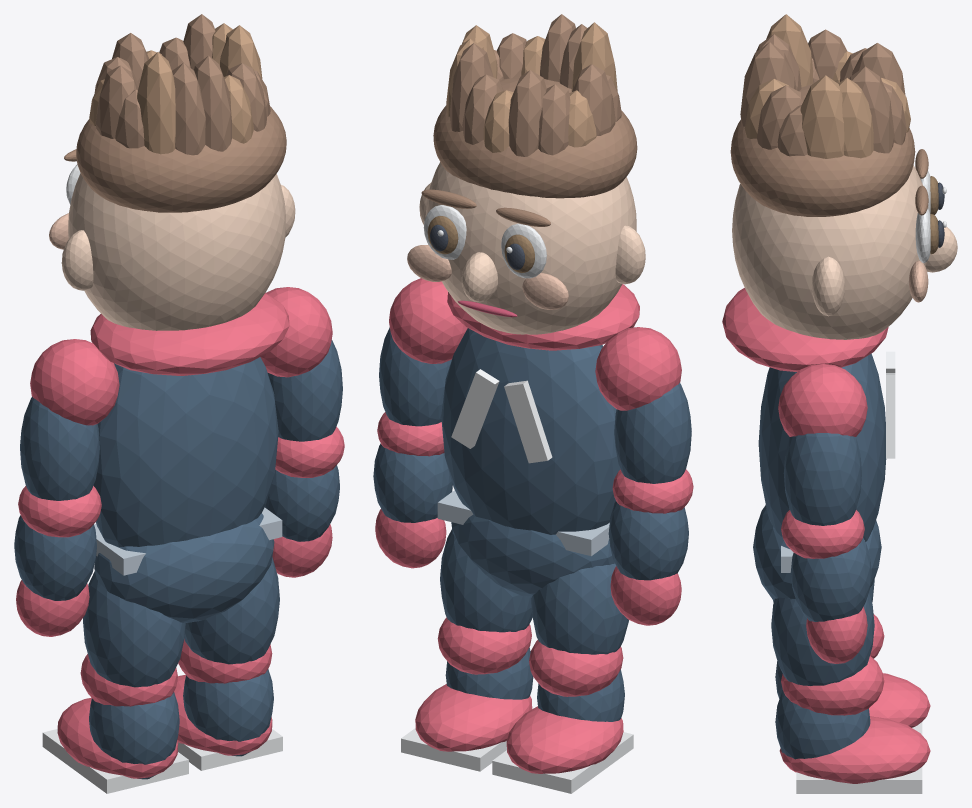
File: mateo_heroe_proxy_v1.glb
The picture shows the model from 3 angles, left to right: view 1: azimuth 30°, elevation 25°; view 2: azimuth 150°, elevation 25°; view 3: azimuth 270°, elevation 25°; orthographic projection. The views are drawn at different scales.
Parts seen in each view (by area): view 1: Torso_1, Head_3, HairBase_40, Hip_2, HoodCollar_57, Thigh_16, UpperArm_12, Shoulder_11, Thigh_33, Calf_18, Calf_35, Forearm_14 (+26 smaller); view 2: Torso_1, Head_3, HairBase_40, Hip_2, Thigh_16, UpperArm_12, Foot_19, Shoulder_11, Foot_36, Thigh_33, Forearm_14, Shoulder_28 (+39 smaller); view 3: Head_3, HairBase_40, Torso_1, UpperArm_29, HoodCollar_57, Foot_36, Shoulder_28, Forearm_31, Thigh_33, Calf_35, Knee_34, HairTuft_41 (+21 smaller).
Boxes of the visible parts, bbox=[...] form: Torso_1: bbox=[93, 357, 278, 547]; Head_3: bbox=[68, 173, 285, 330]; HairBase_40: bbox=[76, 106, 286, 212]; Hip_2: bbox=[94, 513, 274, 622]; HoodCollar_57: bbox=[90, 293, 289, 375]; Thigh_16: bbox=[83, 571, 185, 687]; UpperArm_12: bbox=[20, 396, 99, 500]; Shoulder_11: bbox=[30, 339, 119, 425]; Thigh_33: bbox=[184, 557, 279, 664]; Calf_18: bbox=[89, 692, 179, 779]; Calf_35: bbox=[183, 669, 273, 756]; Forearm_14: bbox=[14, 515, 96, 600]; Torso_1: bbox=[441, 328, 620, 534]; Head_3: bbox=[425, 162, 636, 334]; HairBase_40: bbox=[433, 76, 637, 198]; Hip_2: bbox=[451, 514, 614, 597]; Thigh_16: bbox=[531, 563, 628, 654]; UpperArm_12: bbox=[614, 383, 691, 483]; Foot_19: bbox=[506, 706, 623, 773]; Shoulder_11: bbox=[595, 327, 681, 410]; Foot_36: bbox=[415, 684, 532, 751]; Thigh_33: bbox=[440, 529, 532, 632]; Forearm_14: bbox=[608, 501, 688, 580]; Shoulder_28: bbox=[389, 278, 467, 363]; Head_3: bbox=[732, 165, 928, 339]; HairBase_40: bbox=[730, 83, 915, 216]; Torso_1: bbox=[758, 353, 886, 541]; UpperArm_29: bbox=[783, 433, 861, 525]; HoodCollar_57: bbox=[722, 288, 888, 371]; Foot_36: bbox=[779, 716, 930, 783]; Shoulder_28: bbox=[778, 364, 867, 436]; Forearm_31: bbox=[790, 537, 871, 621]; Thigh_33: bbox=[771, 593, 874, 685]; Calf_35: bbox=[775, 690, 870, 759]; Knee_34: bbox=[781, 656, 884, 715]; HairTuft_41: bbox=[800, 75, 844, 158].
Size of the model in its own units: 1.27 by 2.85 by 0.842.
